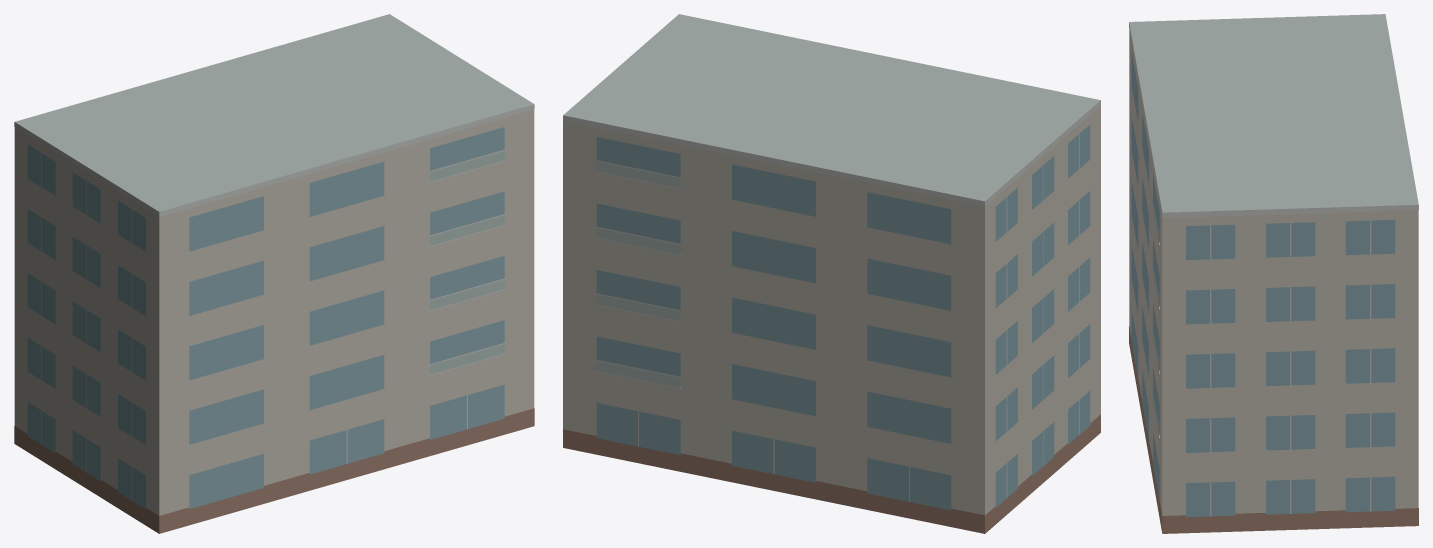
Rendered from survey-upis-32945306.glb.
3 views of the same model, side by side, from view 1: azimuth 30°, elevation 25°; view 2: azimuth 150°, elevation 25°; view 3: azimuth 270°, elevation 25° (orthographic). The views are drawn at different scales.
Visible parts, largest first — view 1: survey-upis-32945306.tmp; view 2: survey-upis-32945306.tmp; view 3: survey-upis-32945306.tmp.
Boxes of the visible parts, x1=… form: survey-upis-32945306.tmp: x1=14, y1=14, x2=534, y2=533; survey-upis-32945306.tmp: x1=563, y1=14, x2=1100, y2=533; survey-upis-32945306.tmp: x1=1129, y1=14, x2=1418, y2=533.
Size of the model in its own units: 19.84 by 14.95 by 12.23.
